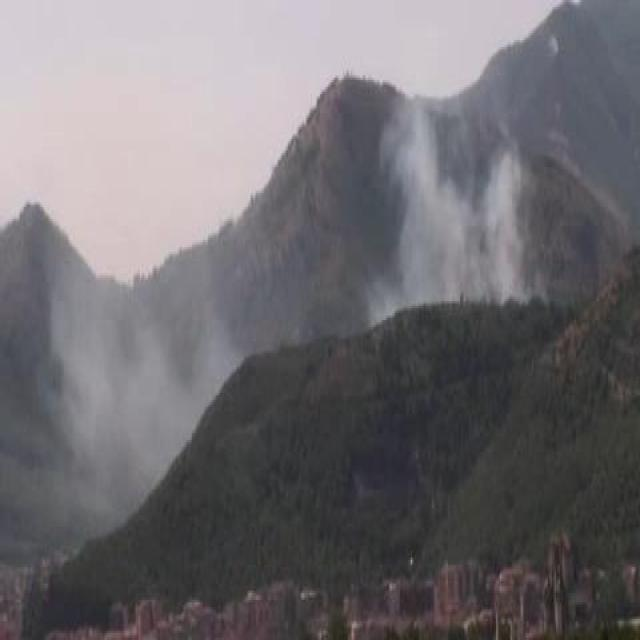Smoke: (51, 273, 202, 471), (375, 114, 525, 307)
